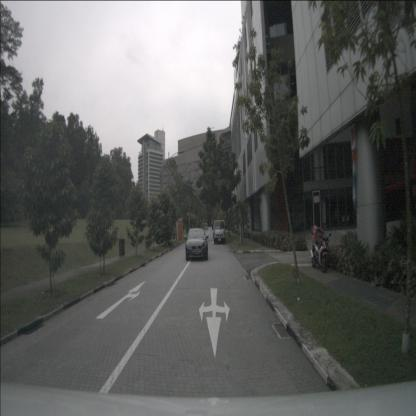human-pedestrian-adult: (340, 212, 345, 229), (346, 211, 350, 230)
vehicle-car: (186, 228, 208, 260)
vehicle-motorcycle: (310, 225, 332, 273)
vehicle-truck: (213, 220, 226, 244), (204, 223, 208, 230)
